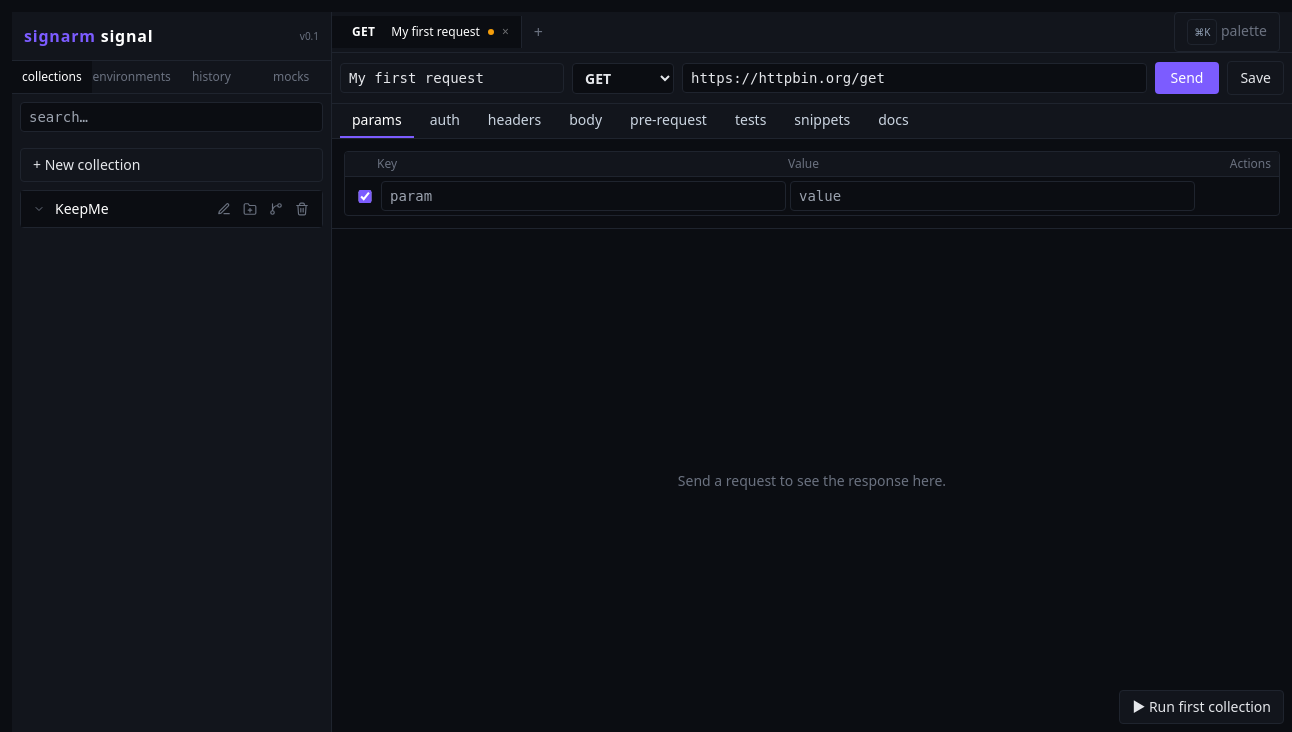
Test: rename — collections › Escape cancels an in-progress rename
The image size is (1292, 732).
Expected: the button "+ New collection" is shown, [20, 148, 323, 182]
Double-click the text "KeepMe" at (82, 208), box [55, 199, 109, 218]
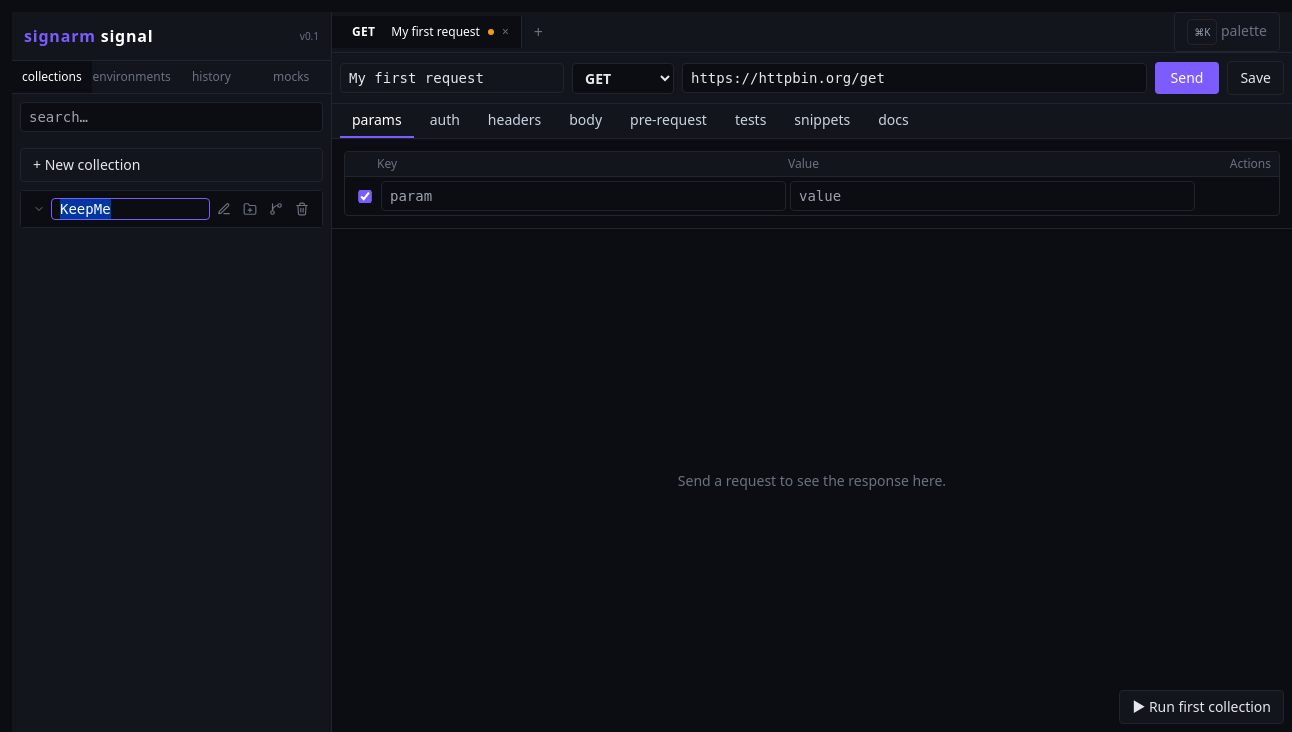
Replace the text in the field named "rename collection keepme" with "Dropped" at (130, 209), box [51, 198, 210, 220]
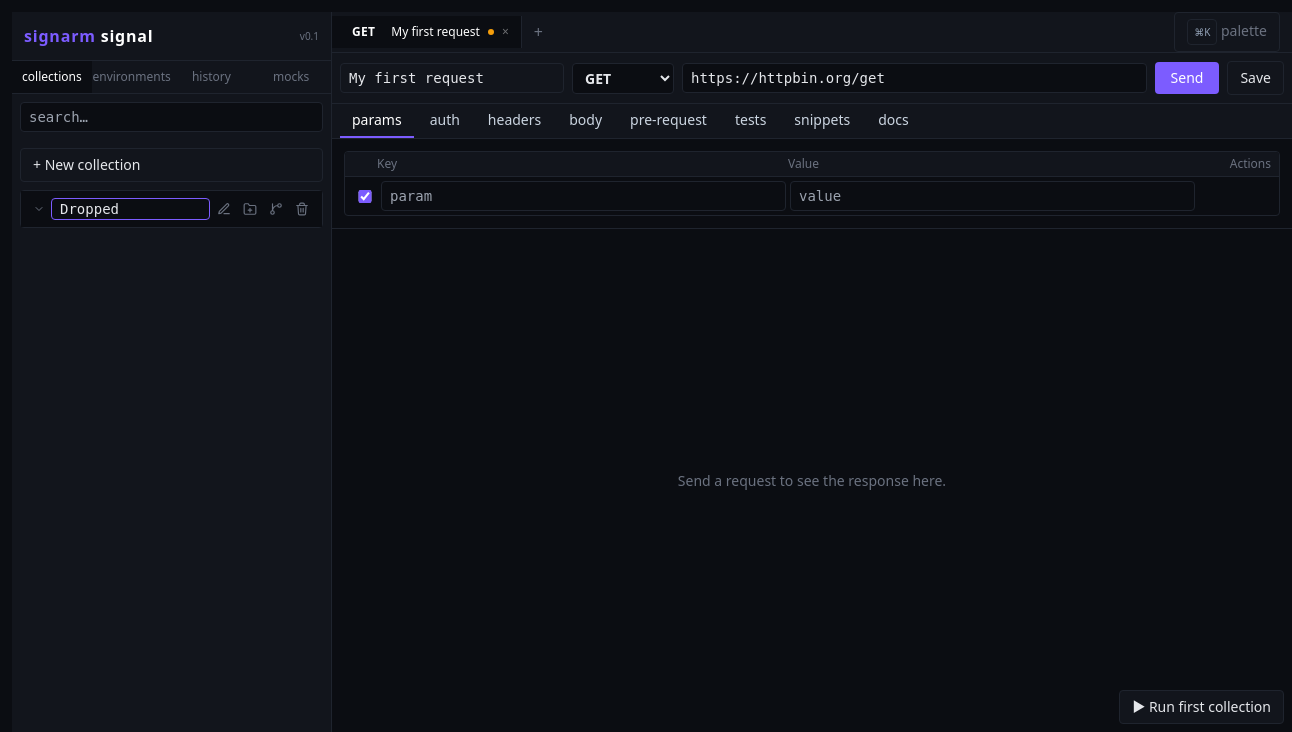
Press Escape in the field named "rename collection keepme", box [51, 198, 210, 220]
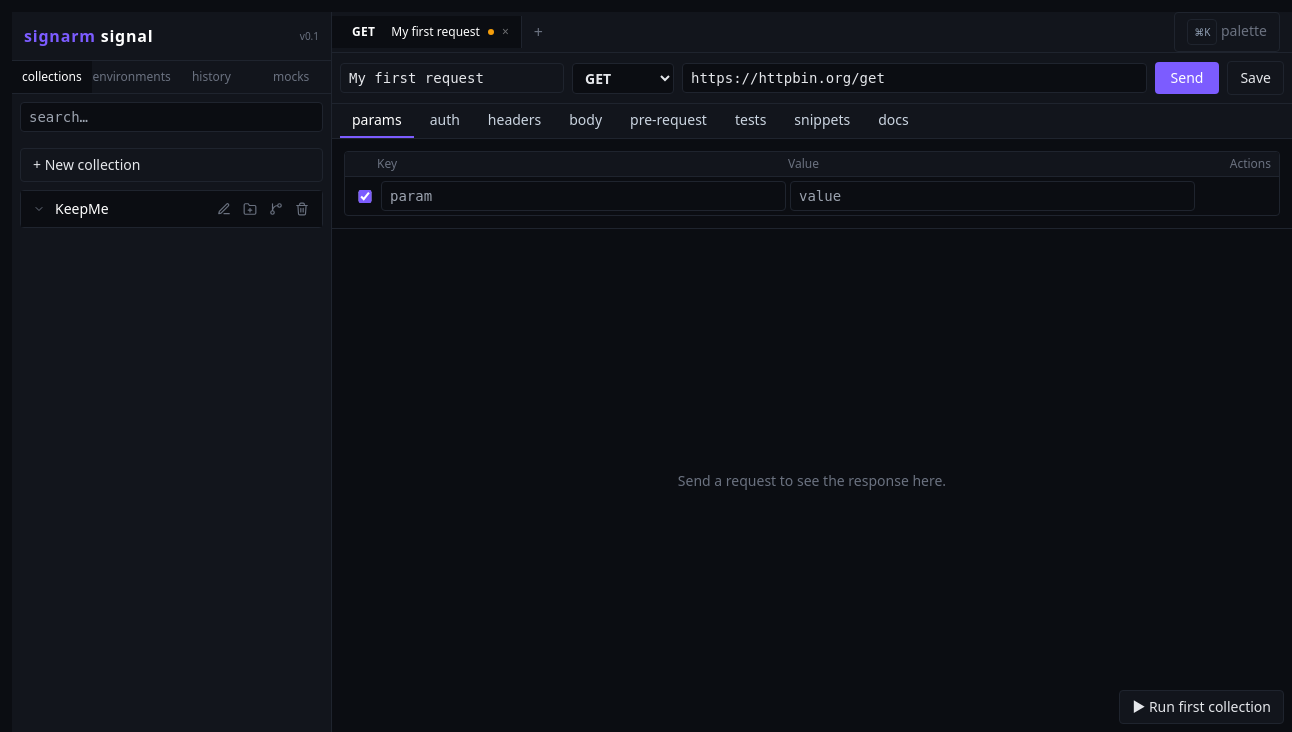
Now the text "KeepMe" is shown, box [55, 199, 109, 218]
